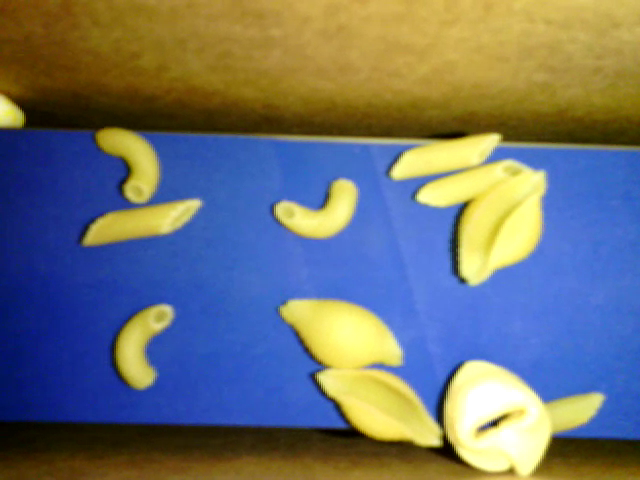elbow: (113, 302, 177, 391), (94, 128, 162, 203), (273, 178, 357, 237)
penne: (81, 197, 204, 247), (413, 158, 536, 208), (387, 131, 502, 181), (542, 392, 607, 433)
shell: (456, 168, 547, 288), (314, 365, 444, 448), (277, 296, 404, 371)
tortellini: (444, 359, 553, 478)
